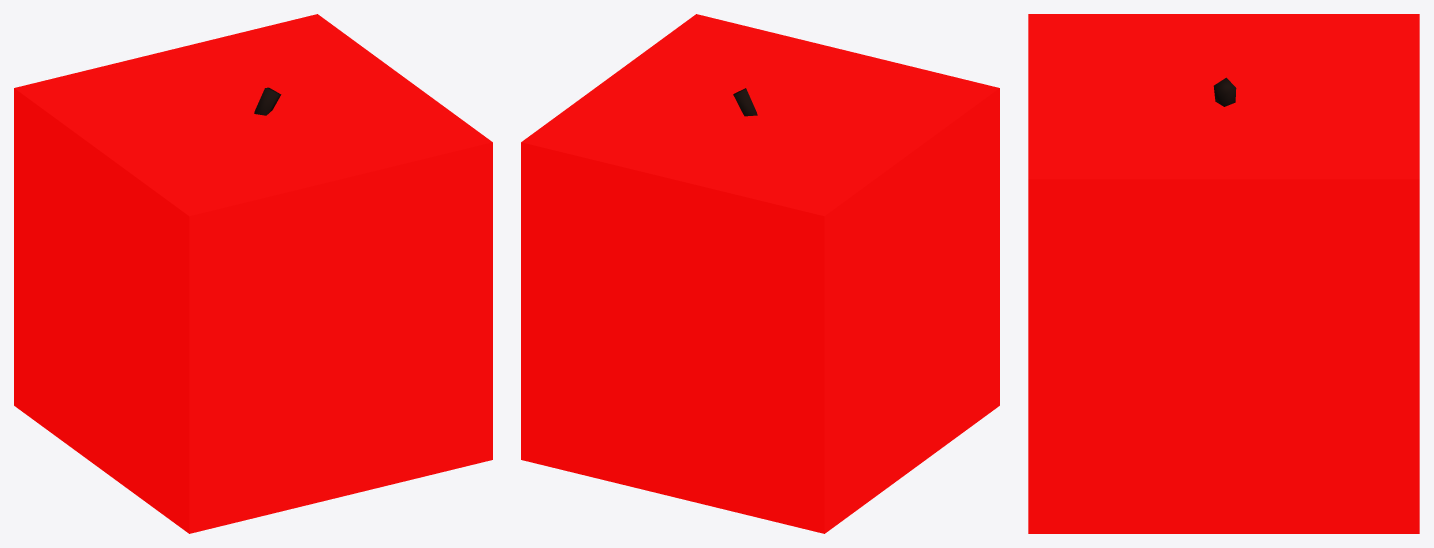
Rendered from Items.fbx_Cherry.fbx.
The picture shows the model from 3 angles, left to right: view 1: azimuth 30°, elevation 25°; view 2: azimuth 150°, elevation 25°; view 3: azimuth 270°, elevation 25°; orthographic projection. The views are drawn at different scales.
Parts seen in each view (by area): view 1: IN.002; view 2: IN.002; view 3: IN.002, Cherry.
Part boxes in pixels (<box>): IN.002: <box>14,14,492,533</box>; IN.002: <box>521,14,999,533</box>; IN.002: <box>1028,14,1419,533</box>; Cherry: <box>1213,77,1236,106</box>.
Bounding box in the file's own units: 4 × 4.29 × 4.
